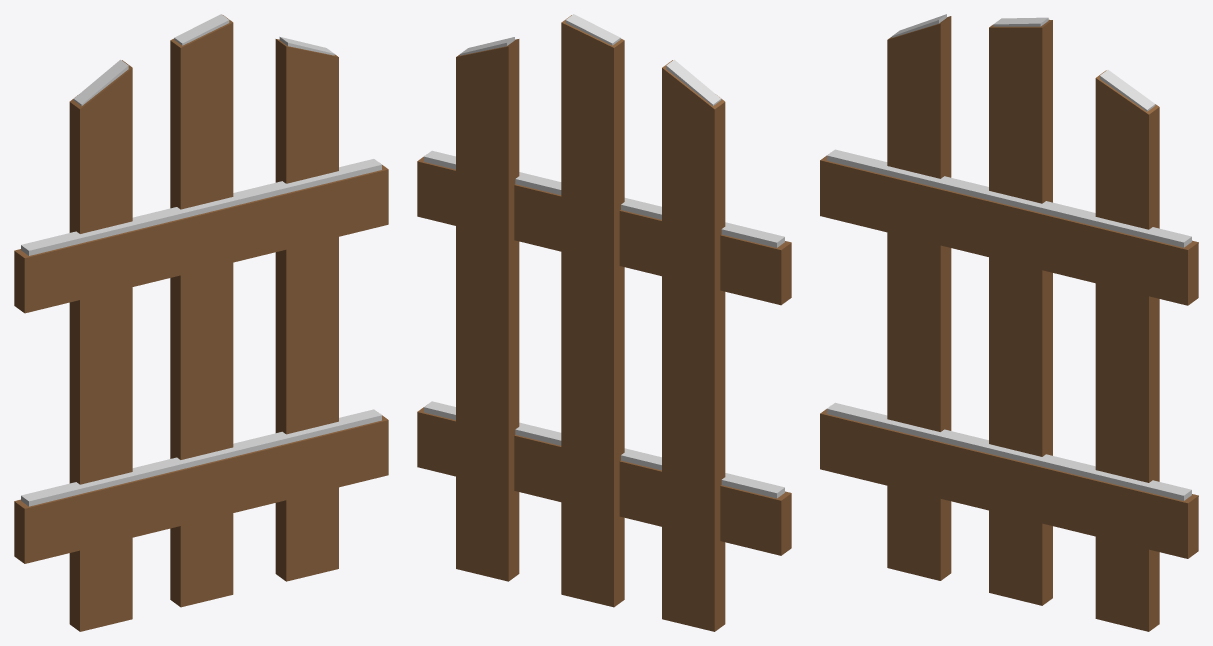
The model's file is Castle_gate_1_snow_mat.fbx.
3 renders of one model, left to right at view 1: azimuth 30°, elevation 25°; view 2: azimuth 150°, elevation 25°; view 3: azimuth 330°, elevation 25°, orthographic.
Visible parts, largest first — view 1: Castle_gate_1_snow_mat; view 2: Castle_gate_1_snow_mat; view 3: Castle_gate_1_snow_mat.
Boxes of the visible parts, x1,y1,x2,y2 form: Castle_gate_1_snow_mat: (14,14,388,631); Castle_gate_1_snow_mat: (417,14,791,631); Castle_gate_1_snow_mat: (820,14,1198,631).
Size of the model in its own units: 1.32 by 1.98 by 0.101.
